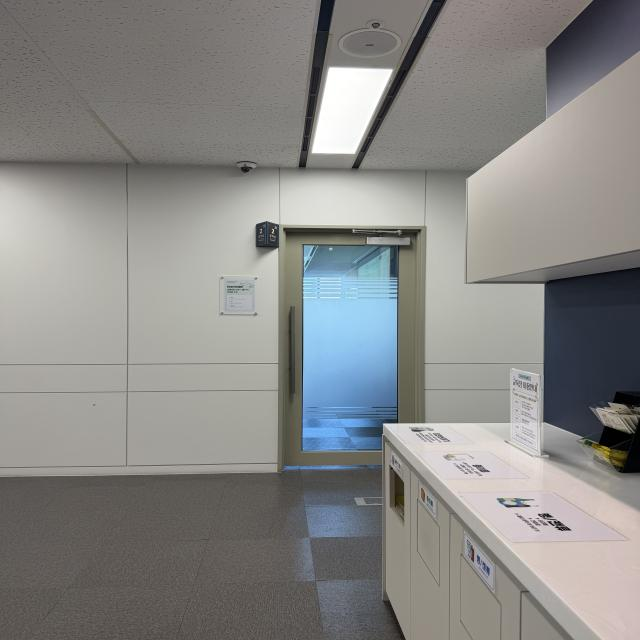sign: (256, 222, 273, 246)
